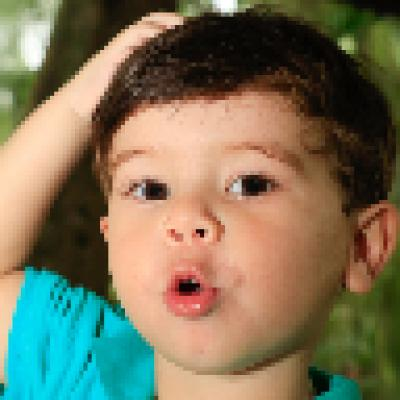surprise: (102, 74, 331, 359)
